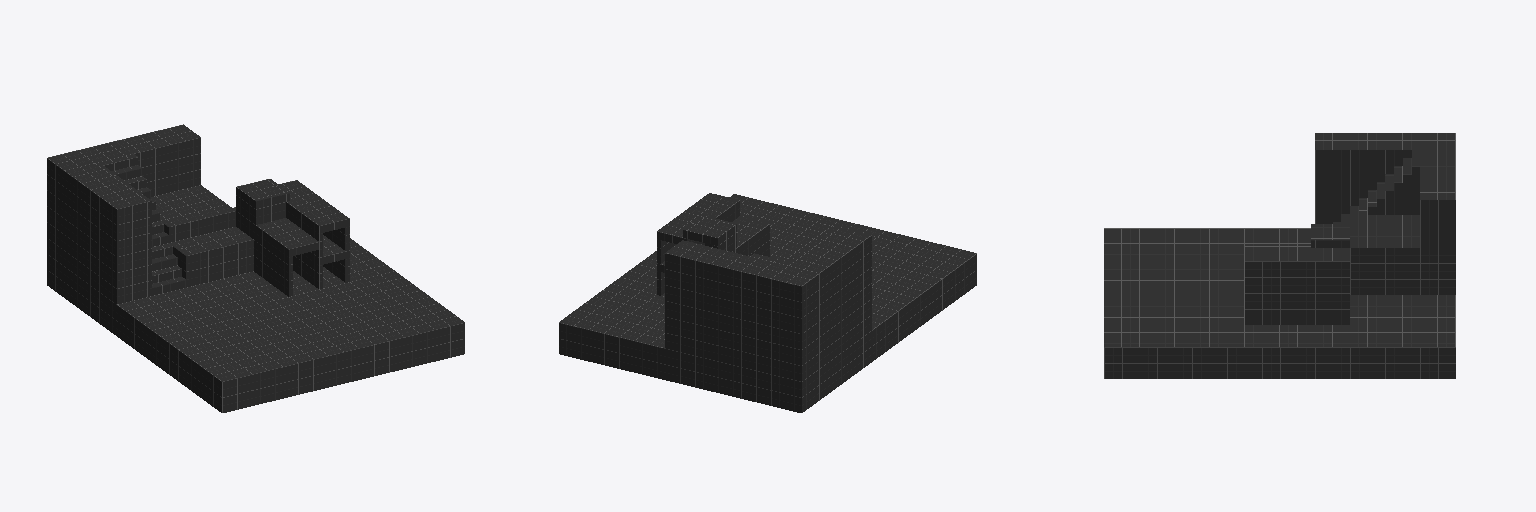
3 views of the same model, side by side, from view 1: azimuth 30°, elevation 25°; view 2: azimuth 150°, elevation 25°; view 3: azimuth 270°, elevation 25° (orthographic).
Parts seen in each view (by area): view 1: entity0_brush0, entity0_brush3, entity0_brush1, entity0_brush4, entity0_brush5, entity0_brush20, entity0_brush28, entity0_brush26, entity0_brush19, entity0_brush27, entity0_brush30, entity0_brush29; view 2: entity0_brush0, entity0_brush1, entity0_brush3, entity0_brush28, entity0_brush20, entity0_brush23; view 3: entity0_brush0, entity0_brush3, entity0_brush1, entity0_brush29, entity0_brush5, entity0_brush21, entity0_brush4, entity0_brush28, entity0_brush18.
Part boxes in pixels (bbox=[...]): entity0_brush0: bbox=[47, 207, 464, 412]; entity0_brush3: bbox=[64, 162, 151, 303]; entity0_brush1: bbox=[47, 124, 200, 265]; entity0_brush4: bbox=[169, 227, 253, 287]; entity0_brush5: bbox=[151, 185, 235, 242]; entity0_brush20: bbox=[236, 211, 292, 296]; entity0_brush28: bbox=[279, 181, 345, 232]; entity0_brush26: bbox=[260, 218, 318, 255]; entity0_brush19: bbox=[293, 241, 322, 288]; entity0_brush27: bbox=[254, 191, 289, 224]; entity0_brush30: bbox=[286, 201, 322, 241]; entity0_brush29: bbox=[294, 180, 349, 250]; entity0_brush0: bbox=[559, 194, 976, 412]; entity0_brush1: bbox=[665, 240, 818, 381]; entity0_brush3: bbox=[785, 226, 871, 368]; entity0_brush28: bbox=[661, 194, 735, 243]; entity0_brush20: bbox=[732, 223, 769, 256]; entity0_brush23: bbox=[687, 218, 730, 244]; entity0_brush0: bbox=[1104, 228, 1455, 378]; entity0_brush3: bbox=[1315, 133, 1419, 223]; entity0_brush1: bbox=[1420, 133, 1455, 294]; entity0_brush29: bbox=[1245, 259, 1349, 292]; entity0_brush5: bbox=[1350, 215, 1419, 262]; entity0_brush21: bbox=[1245, 293, 1349, 324]; entity0_brush4: bbox=[1350, 263, 1419, 294]; entity0_brush28: bbox=[1245, 248, 1349, 258]; entity0_brush18: bbox=[1385, 199, 1419, 214].
Bounding box in the file's own units: 128 × 64 × 160.
Materials: 1 (1 with a texture image).